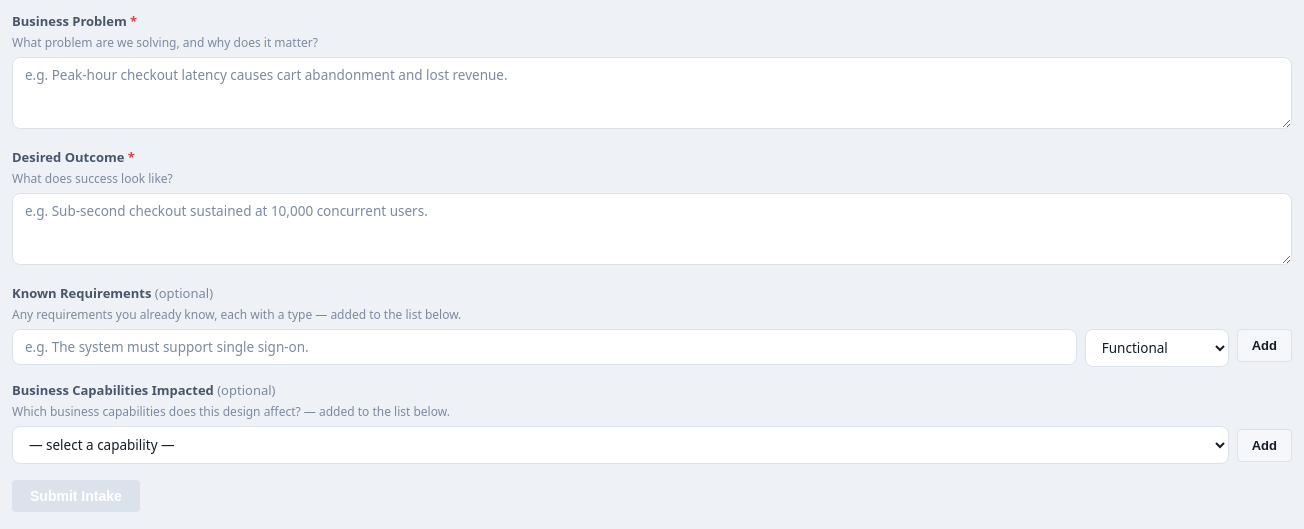
Test: IntakeTextForm › renders the required inputs and disables submit until Business Problem/Desired Outcome are filled
Expected: the text box labelled "Desired Outcome *" is shown, left=12, top=193, right=1292, bottom=265
Expected: the field labelled "Known Requirements (optional)" is shown, left=12, top=329, right=1077, bottom=365
Step 1. Replace the text in the text box labelled "Business Problem *" with "Peak checkout latency loses sales." → (652, 93), box left=12, top=57, right=1292, bottom=129
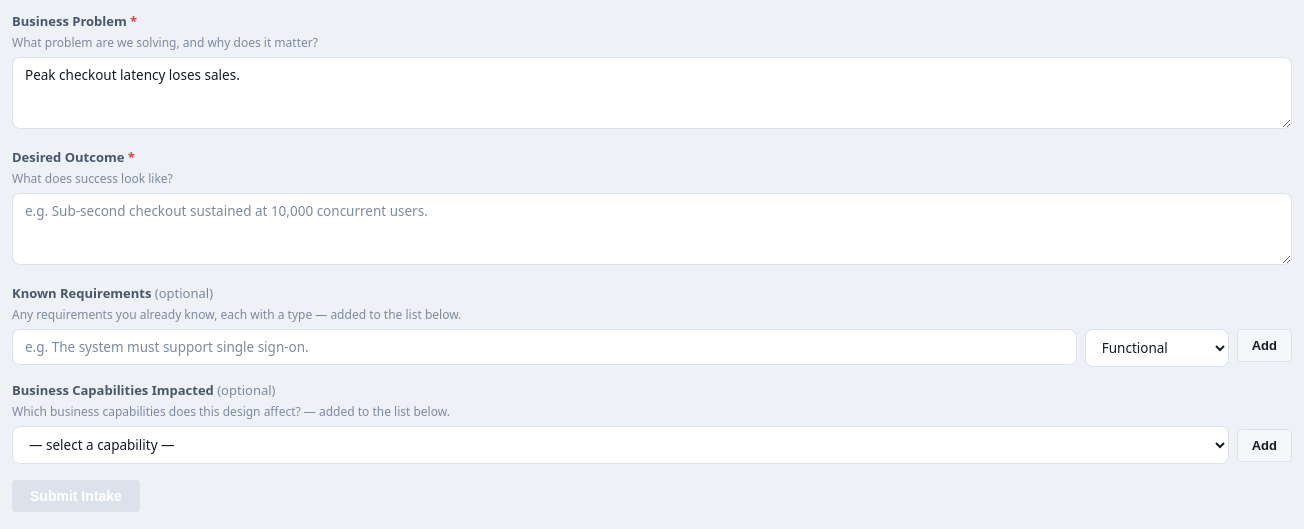
Expected: the button "Submit Intake" is disabled, left=12, top=480, right=140, bottom=512
Step 2. Replace the text in the text box labelled "Desired Outcome *" with "Sub-second checkout at 10k users." → (652, 229), box left=12, top=193, right=1292, bottom=265
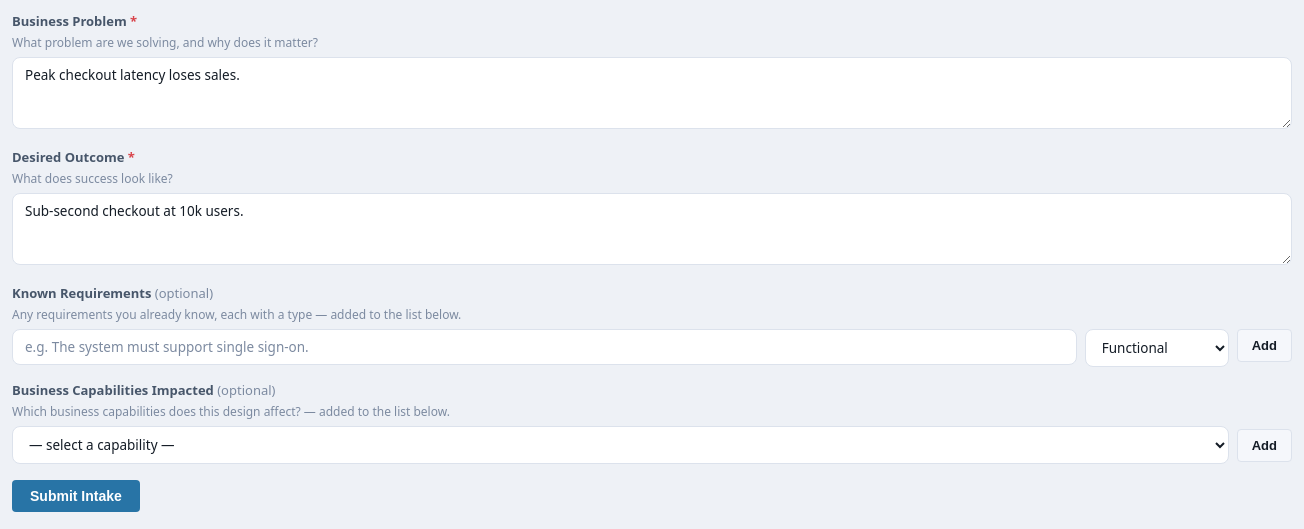
Result: the button "Submit Intake" is enabled at left=12, top=480, right=140, bottom=512
